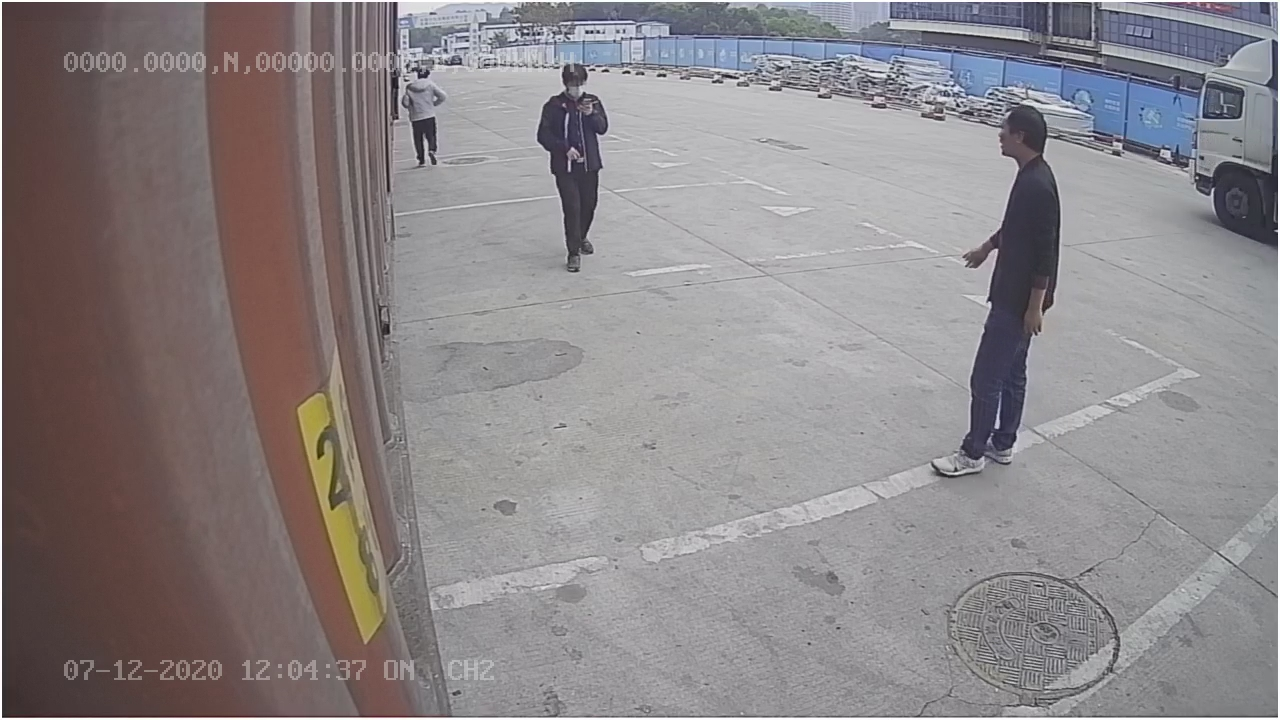person: (930, 95, 1063, 484), (522, 57, 626, 285)
